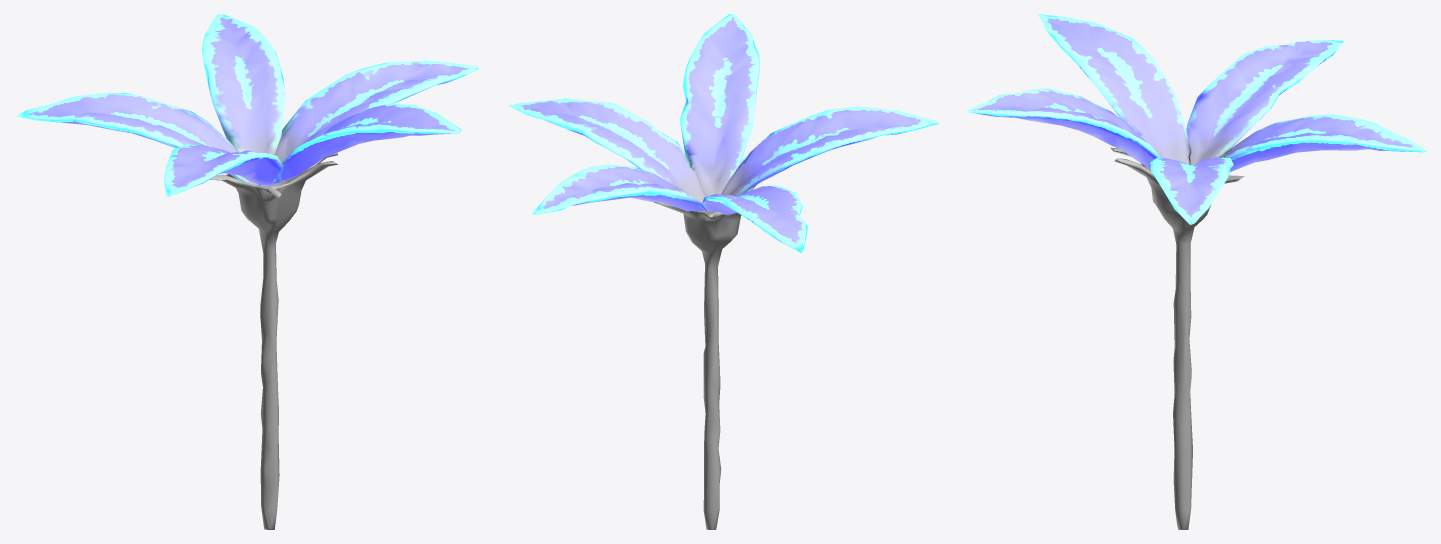
Rendered from SM_Plant_B.fbx.
3 views of the same model, side by side, from view 1: azimuth 30°, elevation 25°; view 2: azimuth 150°, elevation 25°; view 3: azimuth 270°, elevation 25° (orthographic). The views are drawn at different scales.
Parts seen in each view (by area): view 1: SM_Plant_B_LOD0; view 2: SM_Plant_B_LOD0; view 3: SM_Plant_B_LOD0.
Boxes of the visible parts, x1,y1,x2,y2 form: SM_Plant_B_LOD0: (15,14,478,529); SM_Plant_B_LOD0: (508,14,938,529); SM_Plant_B_LOD0: (967,14,1426,529).
Size of the model in its own units: 102 by 103 by 114.
